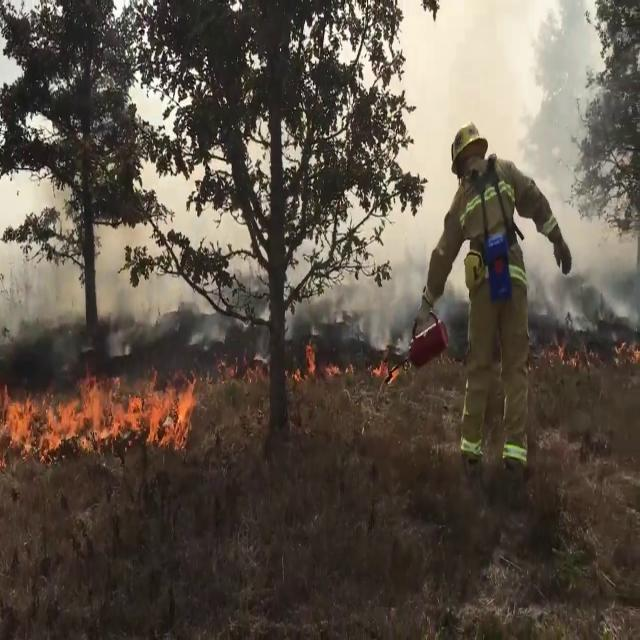Fire: (1, 366, 200, 450), (300, 335, 320, 381)
Smoke: (288, 182, 434, 342), (530, 191, 640, 359)
